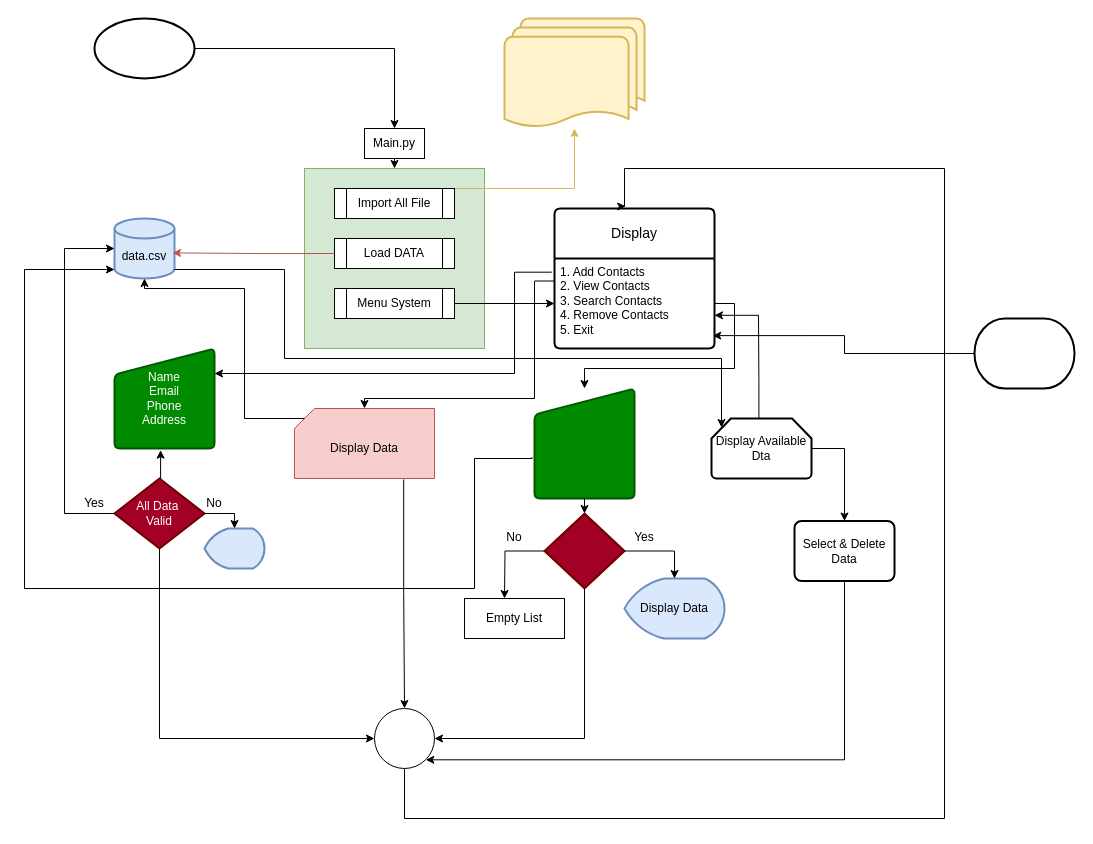
This 1093x844 diagram has some shape labels left out. The shapes that lost their labels are listed below. From the top down, each one's centre as x and y in pixels, then its label:
At [144,48]: "Start".
At [574,73]: "Add Contact.py Load Data.py Viewdata.py Search.py Remove.py".
At [1024,353]: "Exit Program".
At [584,443]: "Search By: 1. Name 2.Email 3.Number".
At [234,548]: "Display All Error".
At [584,550]: "Data Found ?".
